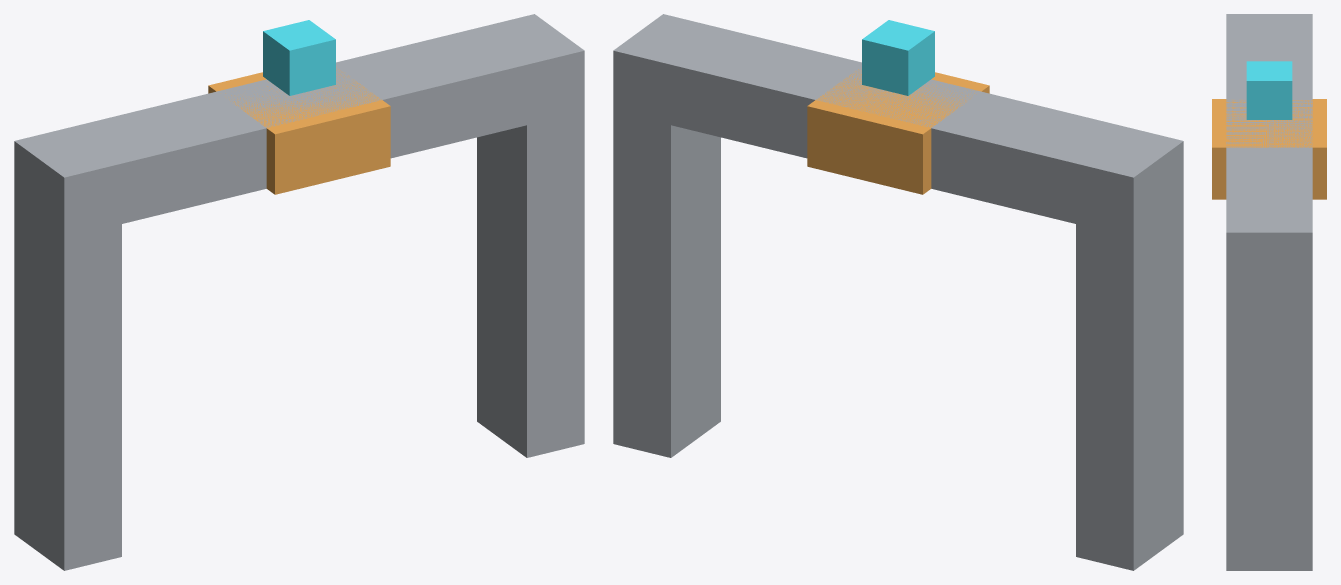
The model's file is gantry.glb.
3 renders of one model, left to right at view 1: azimuth 30°, elevation 25°; view 2: azimuth 150°, elevation 25°; view 3: azimuth 270°, elevation 25°, orthographic. The views are drawn at different scales.
Visible parts, largest first — view 1: Gantry, Control, Beacon; view 2: Gantry, Control, Beacon; view 3: Gantry, Control, Beacon.
Boxes of the visible parts, x1,y1,x2,y2 form: Gantry: (14,14,584,570); Control: (208,69,390,194); Beacon: (263,20,335,95); Gantry: (613,14,1183,570); Control: (807,69,989,194); Beacon: (862,20,934,95); Gantry: (1226,14,1312,570); Control: (1212,99,1326,199); Beacon: (1246,61,1292,119).
Bounding box in the file's own units: 18 × 15 × 4.
